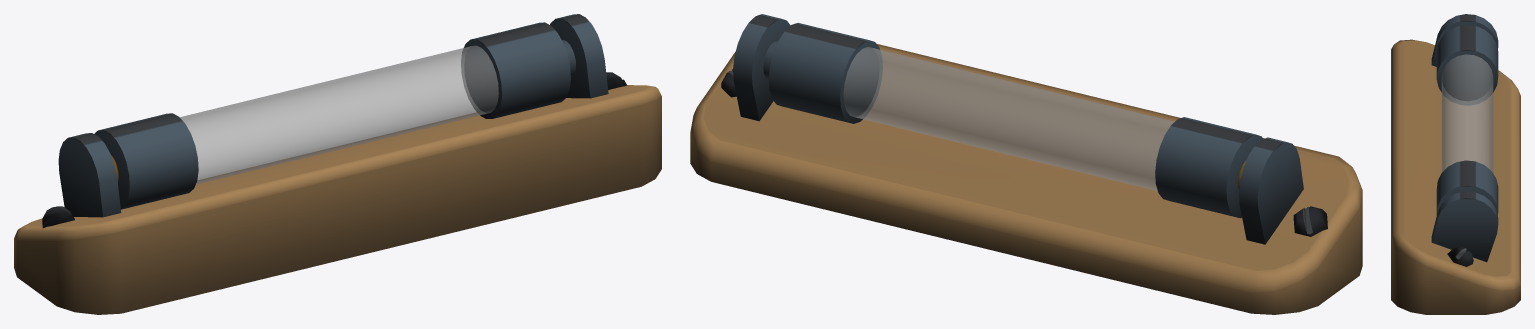
Rendered from light_mod_2.fbx.
The picture shows the model from 3 angles, left to right: view 1: azimuth 30°, elevation 25°; view 2: azimuth 150°, elevation 25°; view 3: azimuth 270°, elevation 25°; orthographic projection. The views are drawn at different scales.
Visible parts, largest first — view 1: pCylinder9; view 2: pCylinder9; view 3: pCylinder9.
Part boxes in pixels (x1=…): pCylinder9: x1=14, y1=14, x2=661, y2=314; pCylinder9: x1=690, y1=14, x2=1362, y2=314; pCylinder9: x1=1391, y1=14, x2=1520, y2=314.
Size of the model in its own units: 20 by 4.25 by 5.
